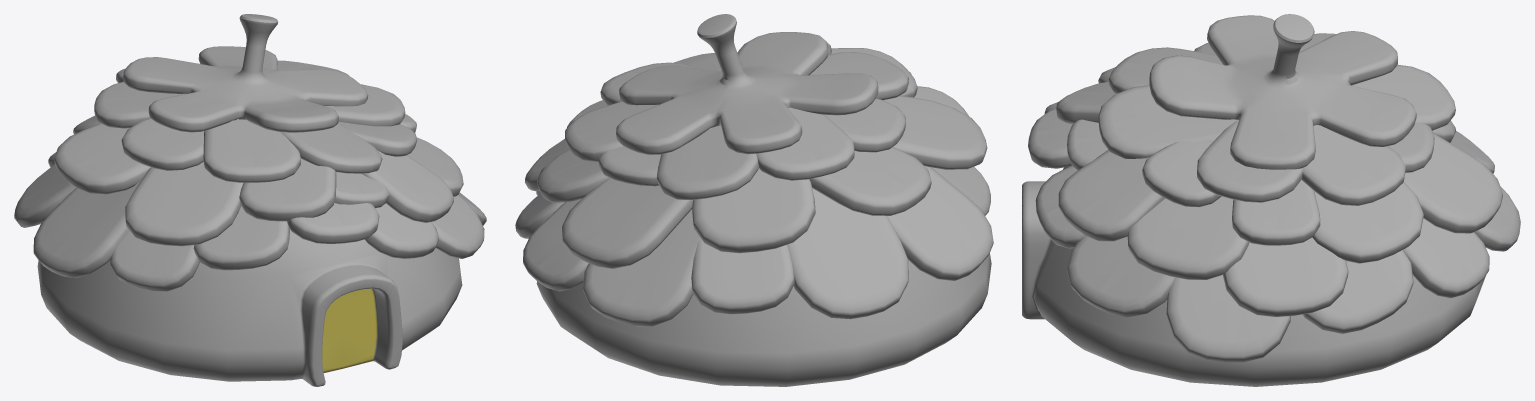
Rendered from S0_L_StrobileHouse.fbx.
3 views of the same model, side by side, from view 1: azimuth 30°, elevation 25°; view 2: azimuth 150°, elevation 25°; view 3: azimuth 270°, elevation 25° (orthographic). The views are drawn at different scales.
Parts seen in each view (by area): view 1: S0_L_StrobileHouse; view 2: S0_L_StrobileHouse; view 3: S0_L_StrobileHouse.
Boxes of the visible parts, <box> form: S0_L_StrobileHouse: <box>14,14,486,386</box>; S0_L_StrobileHouse: <box>515,14,993,386</box>; S0_L_StrobileHouse: <box>1022,14,1520,386</box>.
Size of the model in its own units: 1990 by 1244 by 1911.
